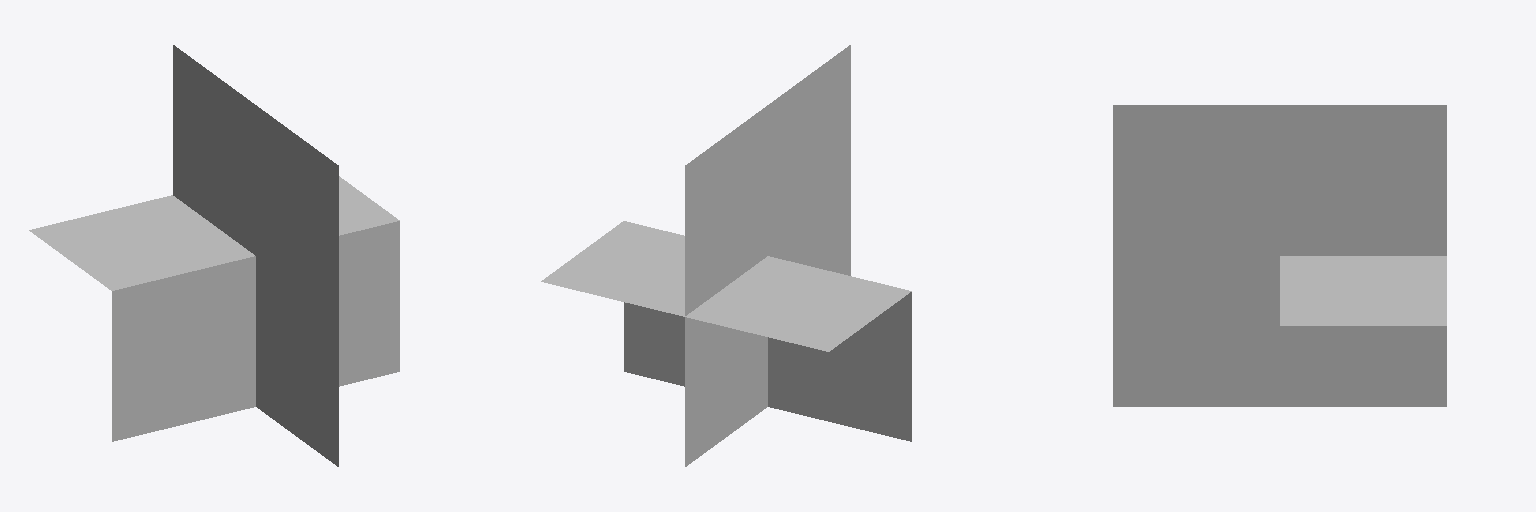
The picture shows the model from 3 angles: view 1: azimuth 30°, elevation 25°; view 2: azimuth 150°, elevation 25°; view 3: azimuth 270°, elevation 25°; orthographic projection.
Visible parts, largest first — view 1: 1001_1010_立方体.102; view 2: 1001_1010_立方体.102; view 3: 1001_1010_立方体.102.
Boxes of the visible parts, x1=… form: 1001_1010_立方体.102: x1=29, y1=45, x2=399, y2=466; 1001_1010_立方体.102: x1=541, y1=45, x2=911, y2=466; 1001_1010_立方体.102: x1=1113, y1=105, x2=1446, y2=406.
Bounding box in the file's own units: 1 × 1 × 1.